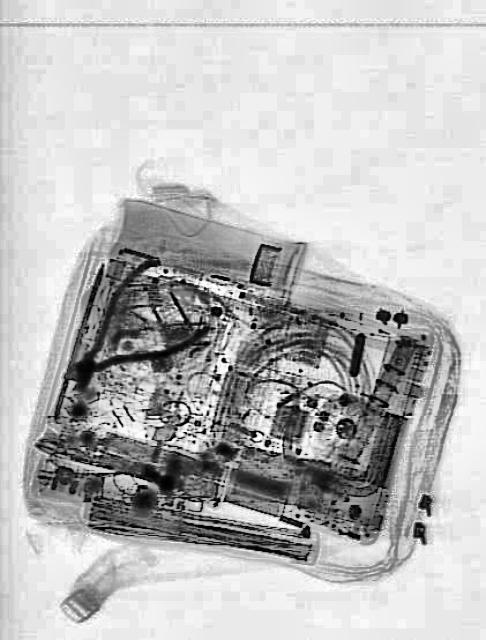Pliers: (43, 244, 209, 426)
